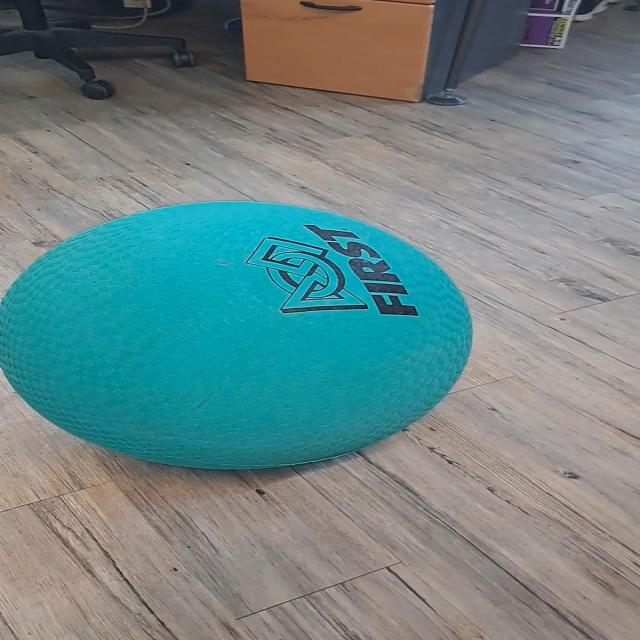ALGAE: (1, 199, 475, 471)
